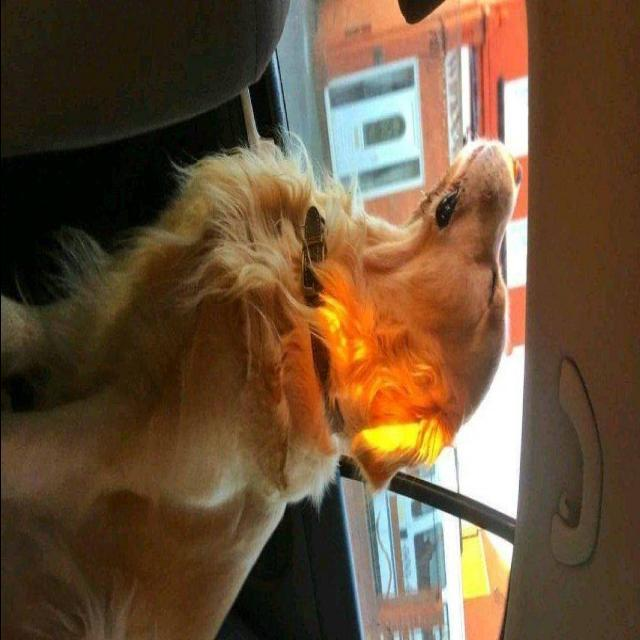Dogs: (1, 120, 529, 640)
